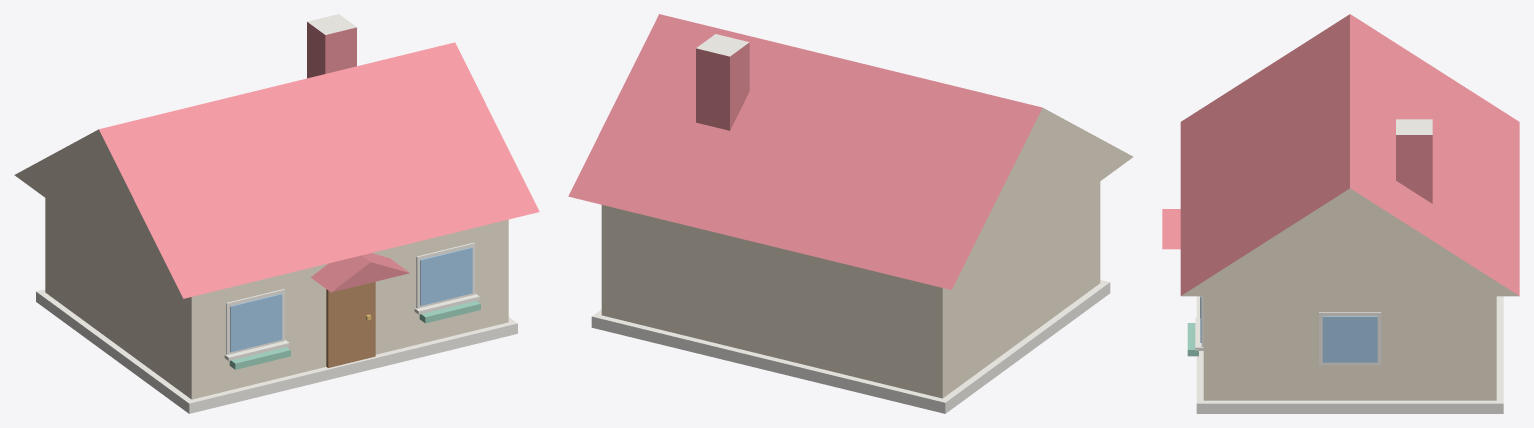
File: cottage.glb
3 renders of one model, left to right at view 1: azimuth 30°, elevation 25°; view 2: azimuth 150°, elevation 25°; view 3: azimuth 270°, elevation 25°, orthographic. The views are drawn at different scales.
Visible parts, largest first — view 1: cottage; view 2: cottage; view 3: cottage.
Boxes of the visible parts, x1=… form: cottage: x1=14, y1=14, x2=539, y2=413; cottage: x1=568, y1=14, x2=1133, y2=413; cottage: x1=1162, y1=14, x2=1519, y2=413.
Size of the model in its own units: 9 by 6 by 7.8.
